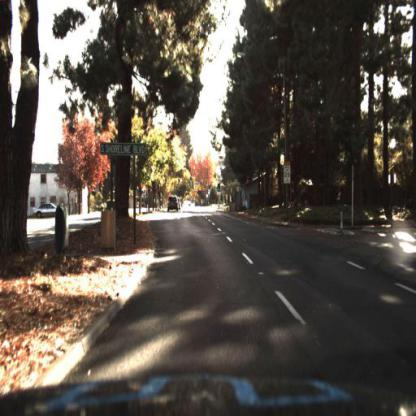car: (33, 202, 63, 217), (168, 195, 182, 212), (183, 197, 186, 215)
trafficLight: (216, 182, 222, 195)
trafficLight-Green: (188, 174, 193, 190), (176, 175, 181, 189)
